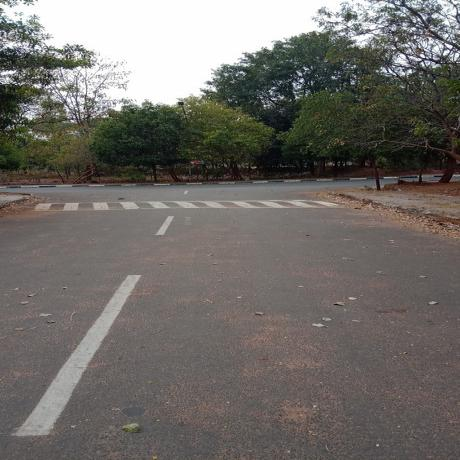Speed Bump: (18, 200, 358, 210)
